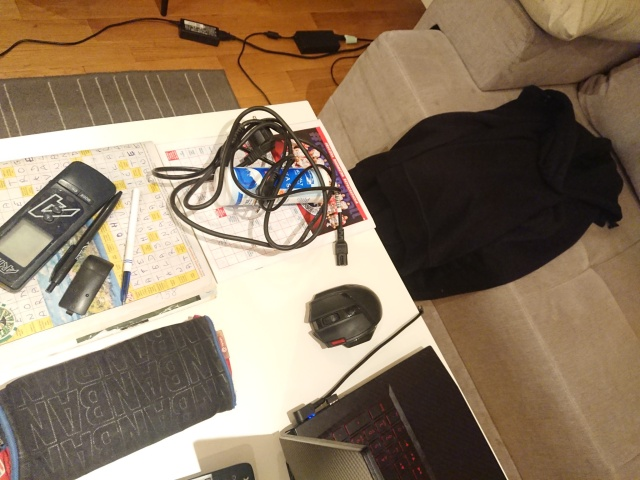Solana Pag Fine Sea Salt 250g: (211, 165, 330, 208)
